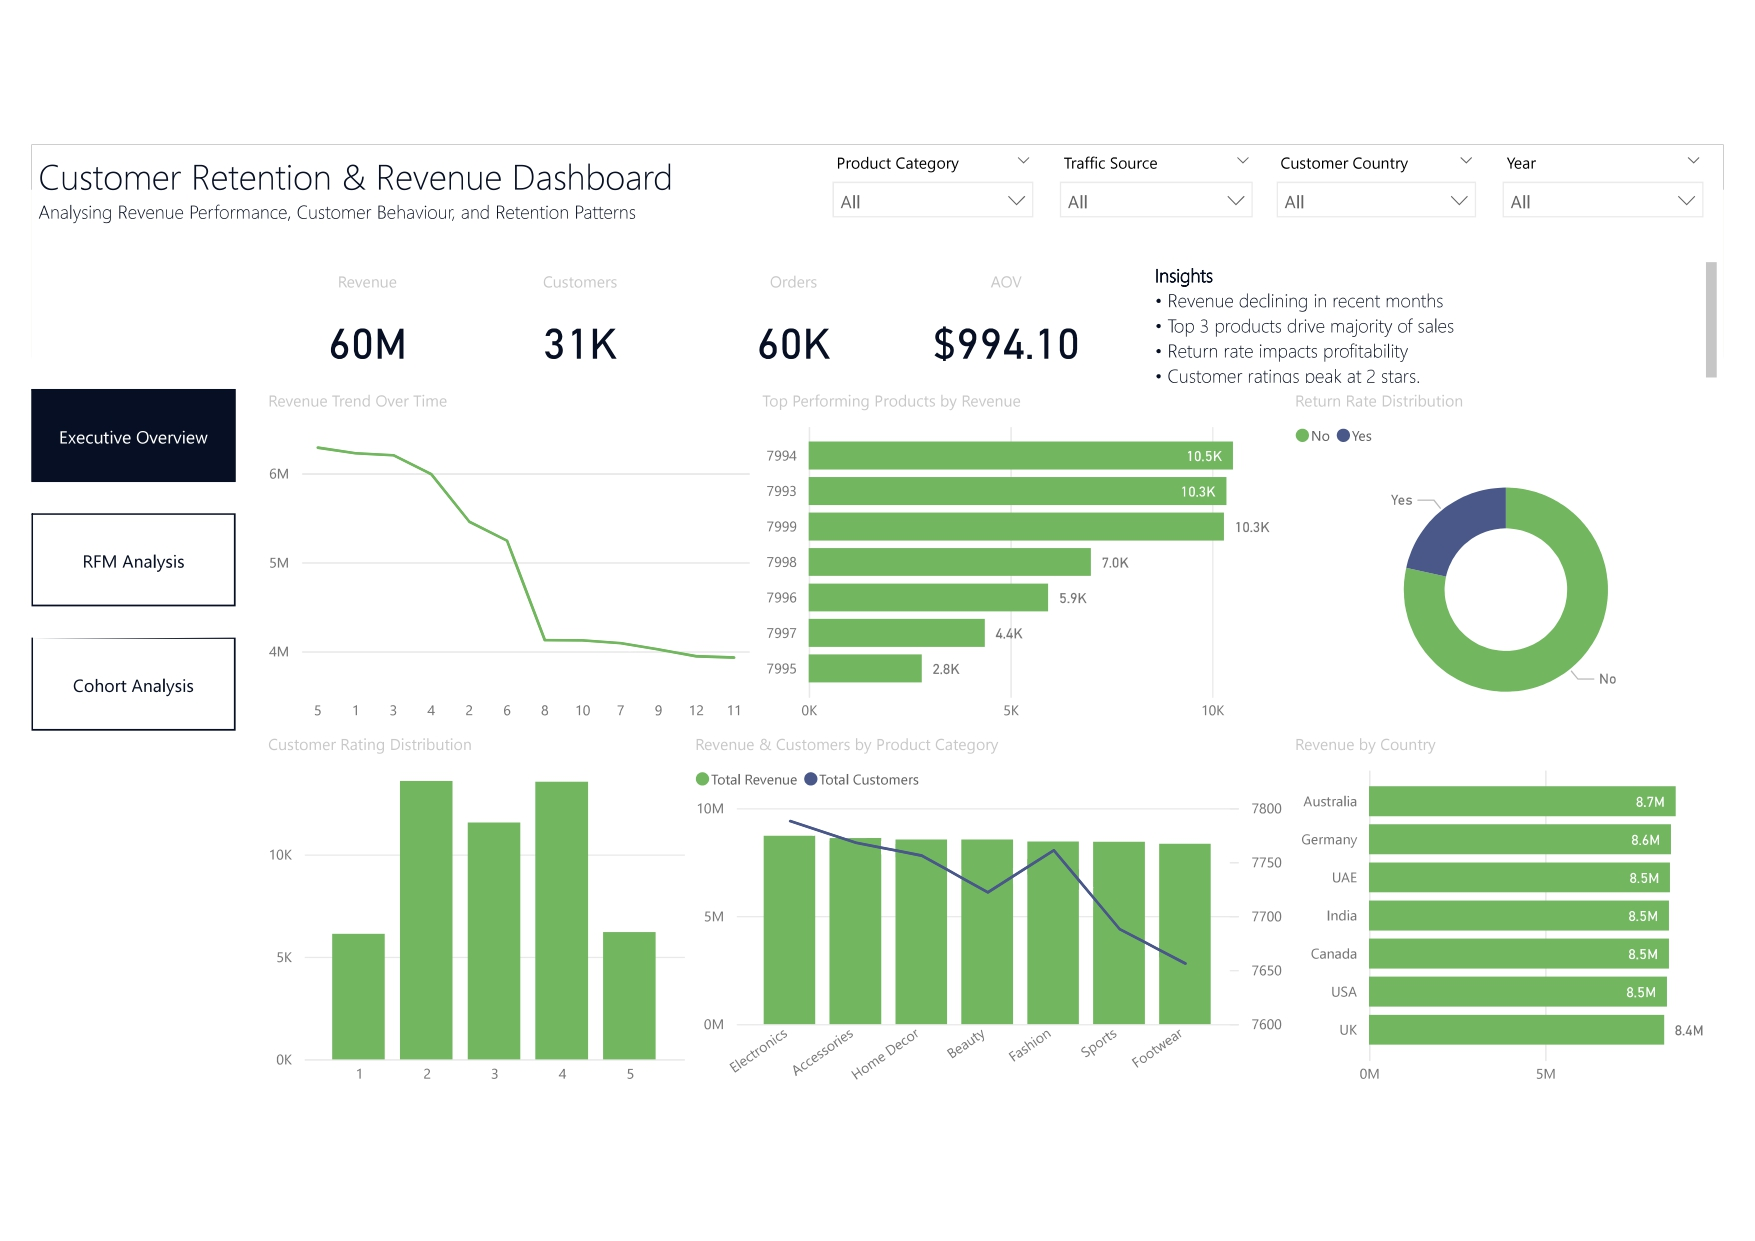

The dashboard page shown, as its layout file describes it:
{"tool":"powerbi","page":{"name":"Executive Overview","canvas":[1280,720],"ordinal":0},"visuals":[{"type":"slicer","fields":{"Values":["sales.product_category"]},"box":[595.9,0,171.7,69.7],"z":0},{"type":"slicer","fields":{"Values":["sales.customer_country"]},"box":[931.7,0,171.7,69.7],"z":1000},{"type":"slicer","fields":{"Values":["sales.traffic_source"]},"box":[767.5,0,166.7,69.7],"z":2000},{"type":"lineChart","title":"Revenue Trend Over Time","fields":{"Category":["Date.Month"],"Y":["Calculations.Total Revenue"]},"box":[174.3,185.2,373.2,259.3],"z":3000},{"type":"card","title":"Customers","fields":{"Values":["Calculations.Total Customers"]},"box":[334.9,94.7,160.5,90.6],"z":4000},{"type":"card","title":"Revenue","fields":{"Values":["Calculations.Total Revenue"]},"box":[174.3,94.7,160,90.6],"z":5000},{"type":"card","title":"Orders","fields":{"Values":["Calculations.Total Orders"]},"box":[496.1,94.7,160.5,90.6],"z":6000},{"type":"card","title":"AOV","fields":{"Values":["Calculations.AOV"]},"box":[657.3,94.7,160.5,90.6],"z":7000},{"type":"clusteredBarChart","title":"Revenue by Country","fields":{"Y":["Calculations.Total Revenue"],"Category":["sales.customer_country"]},"box":[950.9,444.6,329.3,275.8],"z":8000},{"type":"textbox","box":[0,0,595.5,70],"z":9000},{"type":"pageNavigator","box":[0,185.2,153.7,259.3],"z":10000},{"type":"slicer","fields":{"Values":["Date.Year"]},"box":[1103.4,0,171.7,69.7],"z":11000},{"type":"clusteredBarChart","title":"Top Performing Products by Revenue","fields":{"Category":["sales.product_id"],"Y":["Calculations.Total Revenue"]},"box":[547.5,185.2,403.4,259.3],"z":12000},{"type":"clusteredColumnChart","title":"Customer Rating Distribution","fields":{"Category":["sales.rating"],"Y":["Calculations.Total Customers"]},"box":[174.3,444.6,325.2,275.8],"z":13000},{"type":"donutChart","title":"Return Rate Distribution","fields":{"Category":["sales.is_returned"],"Y":["Calculations.Total Customers"]},"box":[950.9,185.2,329.3,259.3],"z":14000},{"type":"lineStackedColumnComboChart","title":"Revenue & Customers by Product Category","fields":{"Category":["sales.product_category"],"Y":["Calculations.Total Revenue"],"Y2":["Calculations.Total Customers"]},"box":[496.7,444.6,454.2,275.8],"z":15000},{"type":"textbox","box":[845.3,83.7,435,101.5],"z":16000}]}

Visuals, with their boxes on the page's 1280x720 design canvas (x1, y1, x2, y2). These are canvas units, not pixel positions in the 1755x1241 screenshot, which may show the page scaled, cropped or inside an application window:
slicer - sales.product_category: x1=596, y1=0, x2=768, y2=70
slicer - sales.customer_country: x1=932, y1=0, x2=1103, y2=70
slicer - sales.traffic_source: x1=768, y1=0, x2=934, y2=70
"Revenue Trend Over Time" lineChart: x1=174, y1=185, x2=548, y2=444
"Customers" card: x1=335, y1=95, x2=495, y2=185
"Revenue" card: x1=174, y1=95, x2=334, y2=185
"Orders" card: x1=496, y1=95, x2=657, y2=185
"AOV" card: x1=657, y1=95, x2=818, y2=185
"Revenue by Country" clusteredBarChart: x1=951, y1=445, x2=1280, y2=720
textbox: x1=0, y1=0, x2=596, y2=70
pageNavigator: x1=0, y1=185, x2=154, y2=444
slicer - Date.Year: x1=1103, y1=0, x2=1275, y2=70
"Top Performing Products by Revenue" clusteredBarChart: x1=548, y1=185, x2=951, y2=444
"Customer Rating Distribution" clusteredColumnChart: x1=174, y1=445, x2=500, y2=720
"Return Rate Distribution" donutChart: x1=951, y1=185, x2=1280, y2=444
"Revenue & Customers by Product Category" lineStackedColumnComboChart: x1=497, y1=445, x2=951, y2=720
textbox: x1=845, y1=84, x2=1280, y2=185
